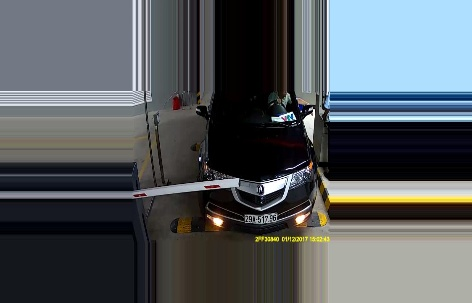plate: (244, 212, 277, 224)
